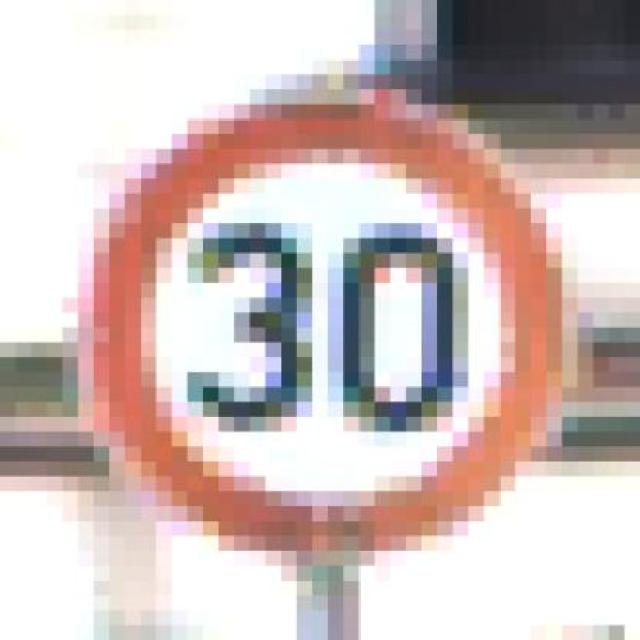Speed Limit 30 KMPh: (31, 74, 624, 580)
